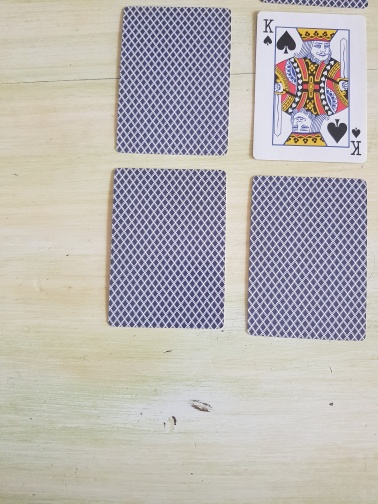king: (251, 10, 369, 164)
